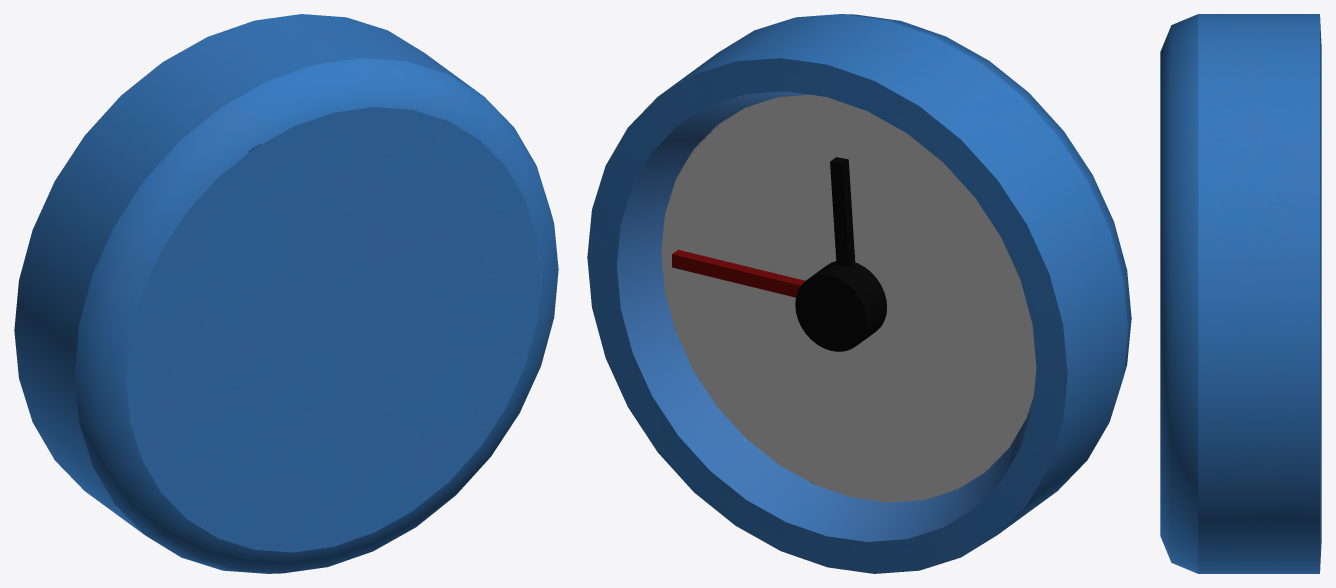
Rendered from Reloj.glb.
3 renders of one model, left to right at view 1: azimuth 30°, elevation 25°; view 2: azimuth 150°, elevation 25°; view 3: azimuth 270°, elevation 25°, orthographic.
Parts seen in each view (by area): view 1: Reloj; view 2: Reloj; view 3: Reloj.
Part boxes in pixels (x1=…): Reloj: x1=14, y1=14, x2=558, y2=573; Reloj: x1=587, y1=14, x2=1131, y2=573; Reloj: x1=1160, y1=14, x2=1321, y2=573.
Size of the model in its own units: 1.29 by 1.29 by 0.3716.
1 material, 1 textured.
